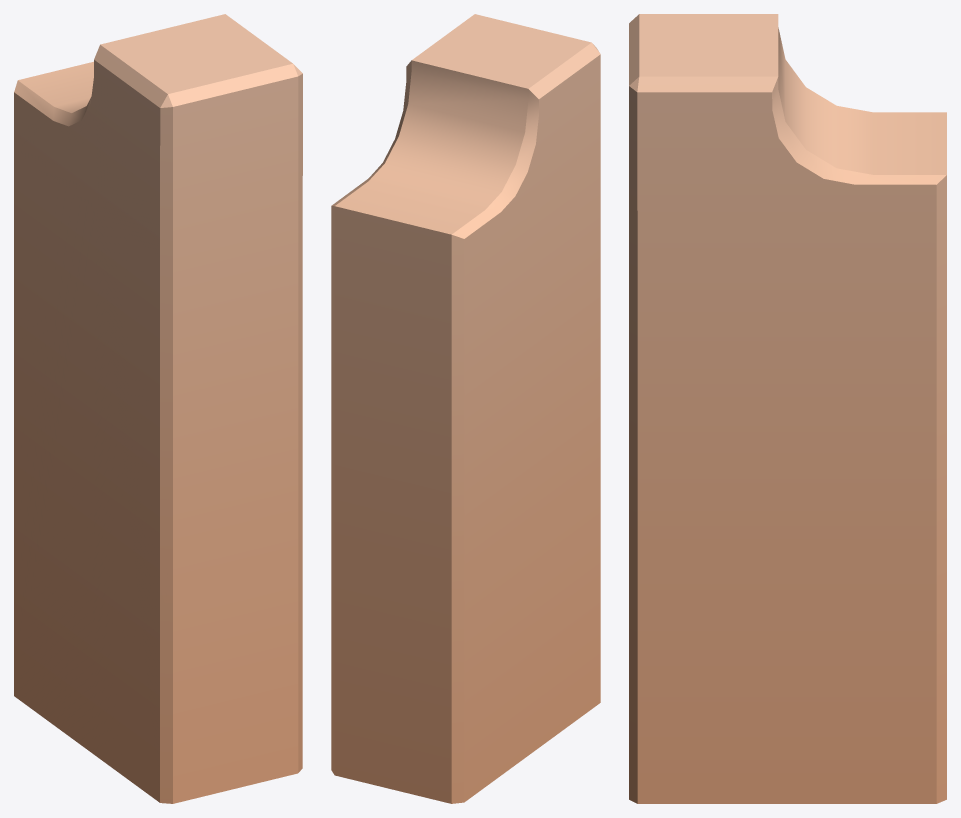
File: WallPasar2.fbx
3 views of the same model, side by side, from view 1: azimuth 30°, elevation 25°; view 2: azimuth 150°, elevation 25°; view 3: azimuth 270°, elevation 25° (orthographic). The views are drawn at different scales.
Parts seen in each view (by area): view 1: WallPasar2_LOD0; view 2: WallPasar2_LOD0; view 3: WallPasar2_LOD0.
Boxes of the visible parts, x1,y1,x2,y2 form: WallPasar2_LOD0: (14,14,302,803); WallPasar2_LOD0: (331,14,600,803); WallPasar2_LOD0: (629,14,946,803).
Size of what is drawn, in the model's own units: 110 by 521 by 208.
